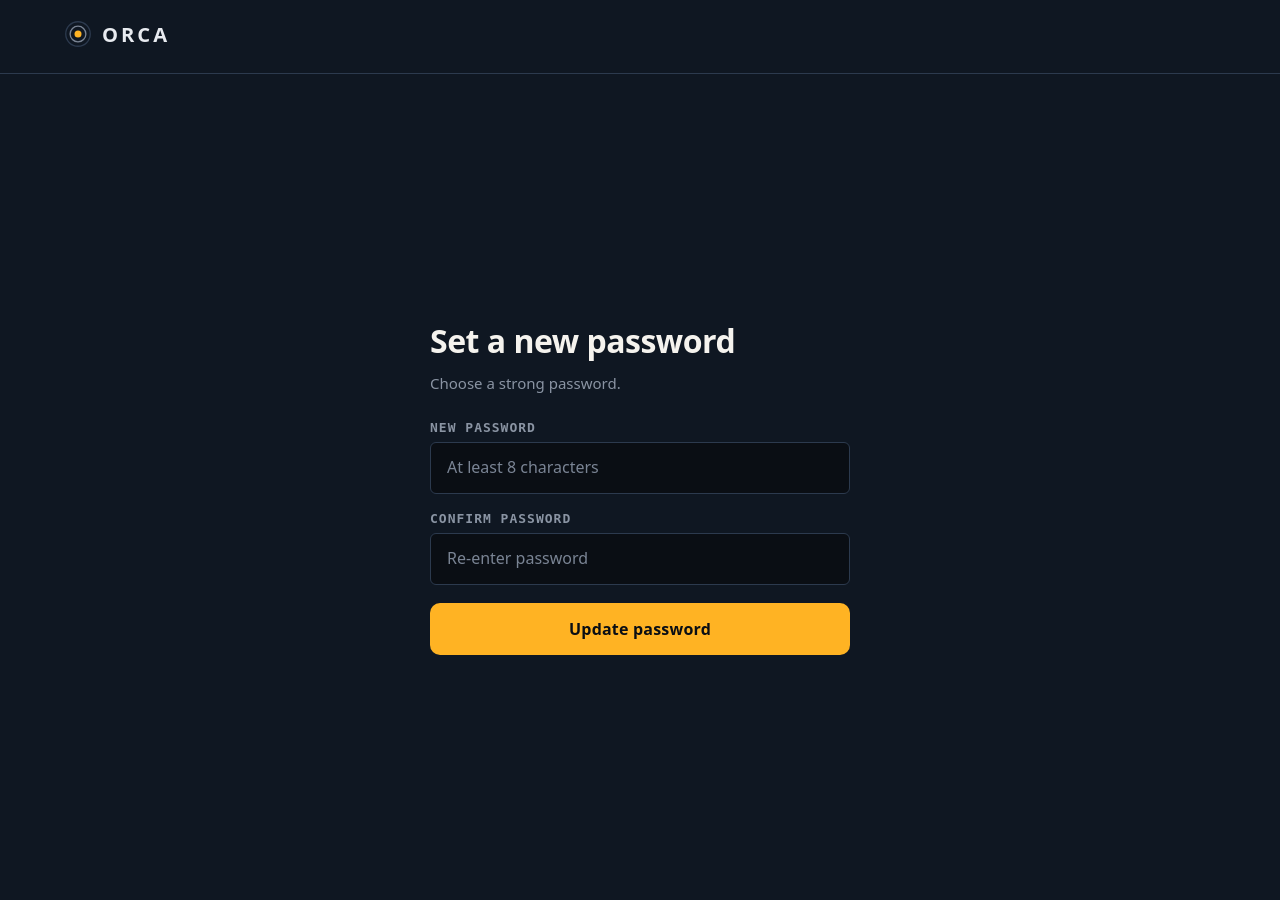
Test: ResetPassword page › rejects a password shorter than 8 chars
The image size is (1280, 900).
In the password field labelled "New password": point(640, 468) [430, 442, 850, 494], type "short"
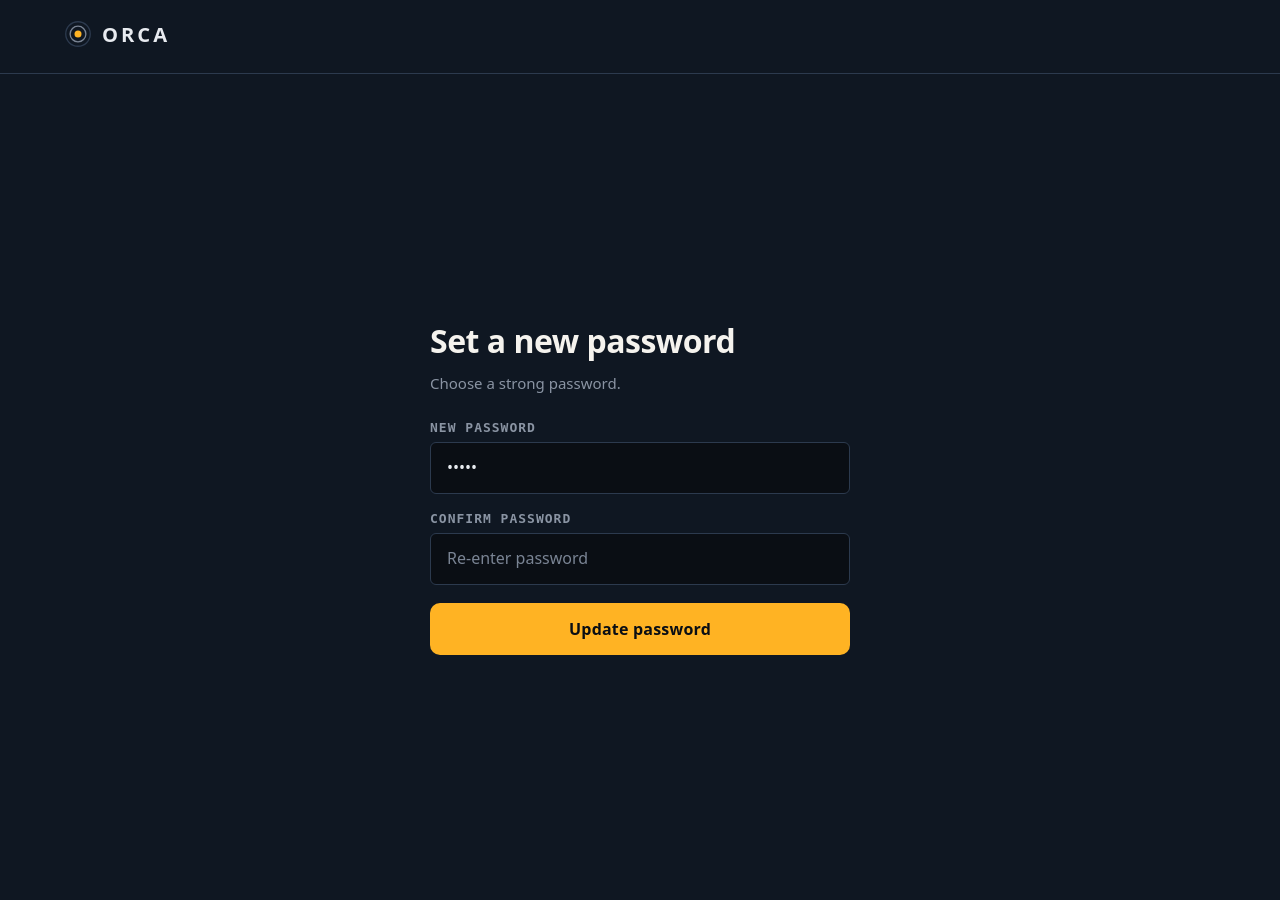
In the password field labelled "Confirm password": point(640, 559) [430, 533, 850, 585], type "short"
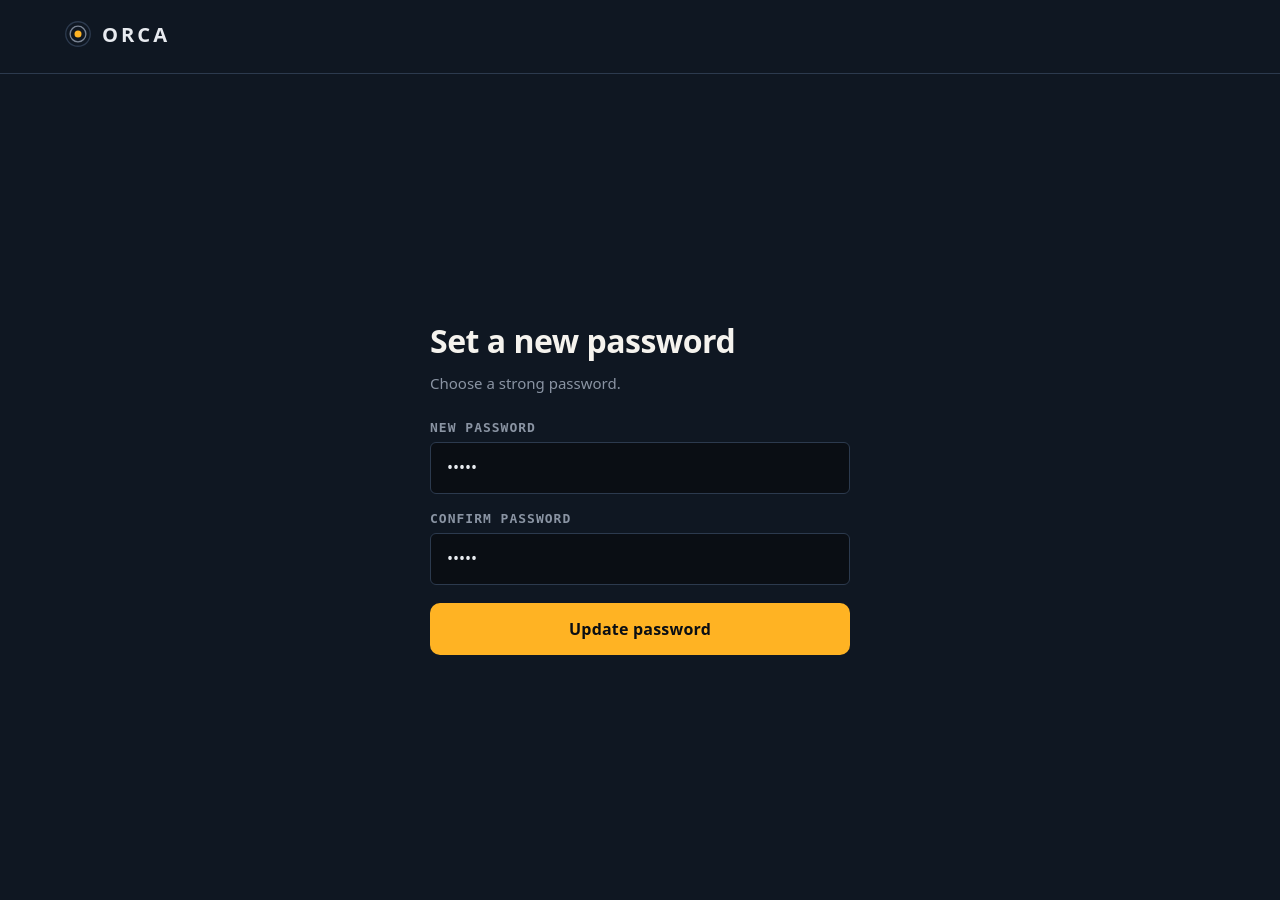
Click the button "Update password": point(640, 629) [430, 603, 850, 655]
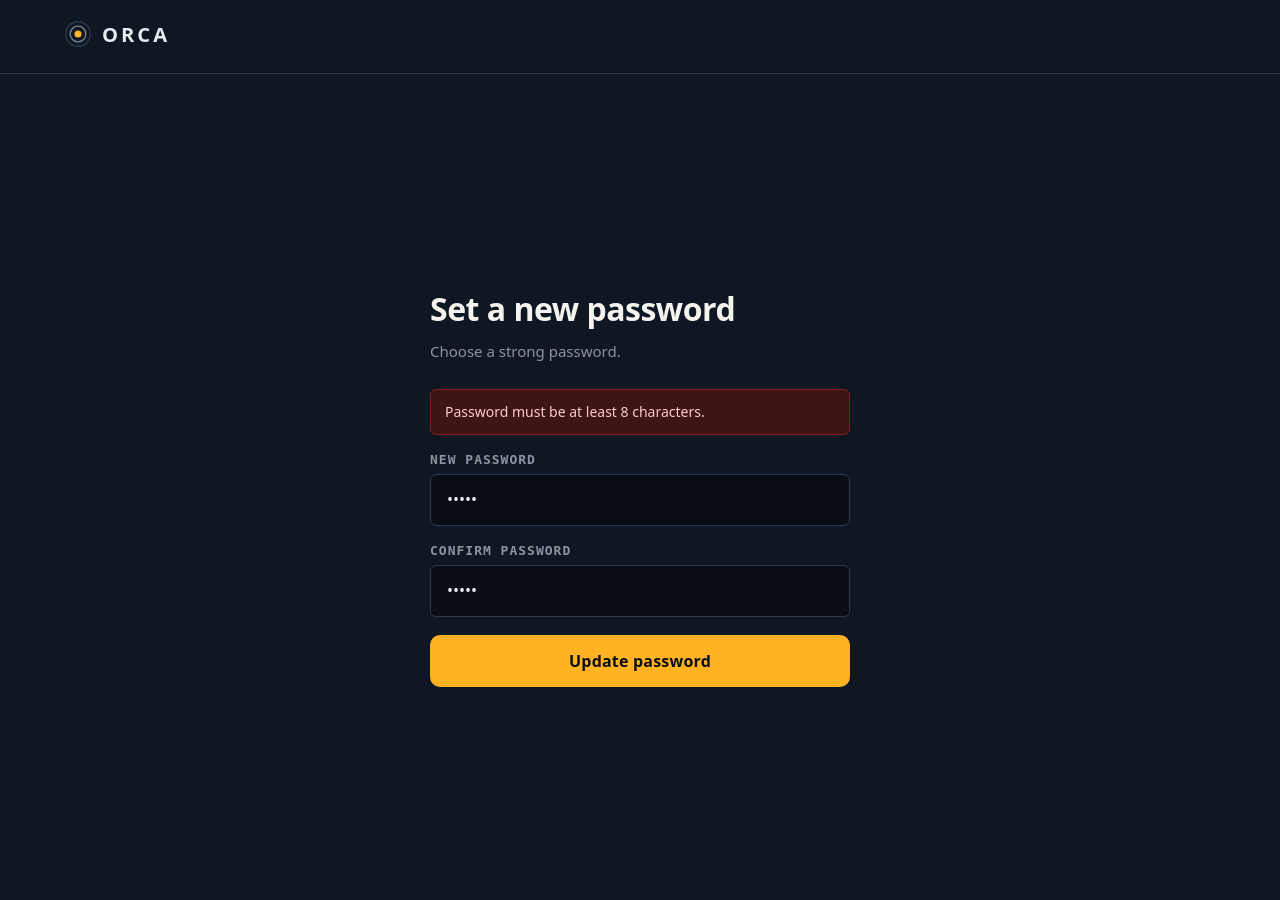
Check: the text "Password must be at least 8 characters." is shown, box [430, 389, 850, 435]
